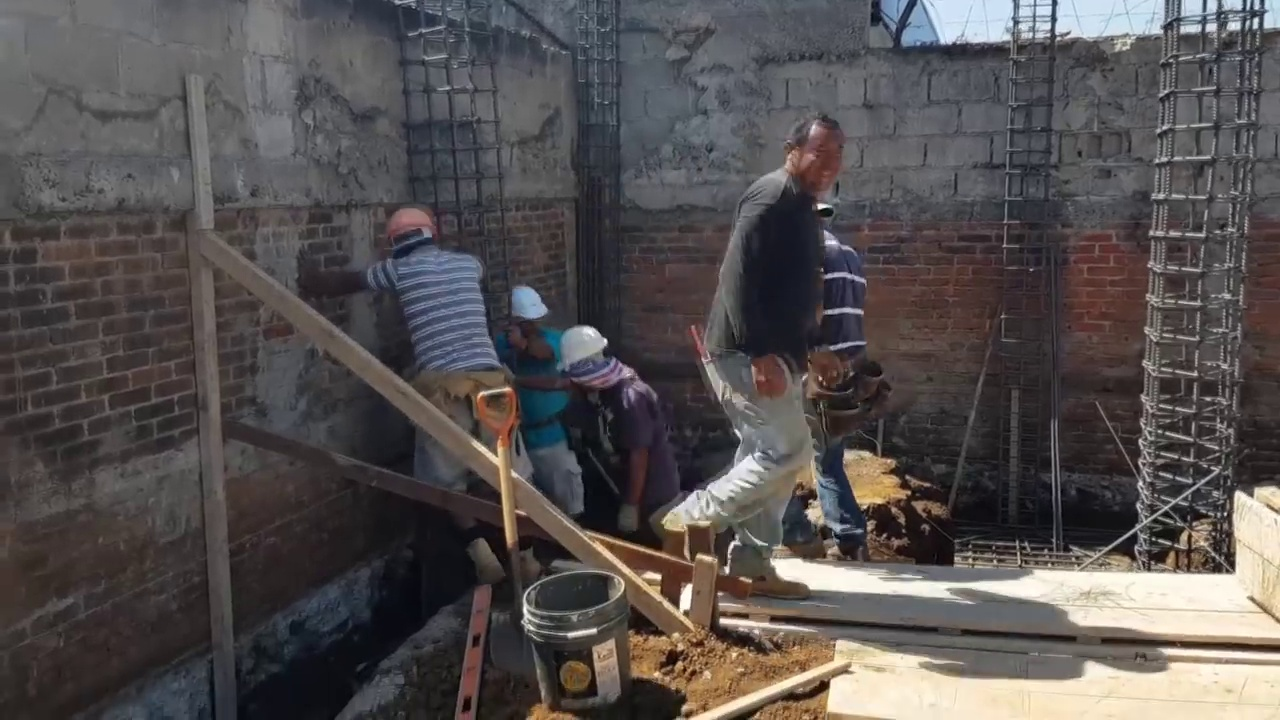helmet: (560, 327, 609, 375), (380, 203, 433, 240), (504, 284, 550, 321)
helmet-off: (786, 113, 851, 195)
helmet-on: (560, 324, 623, 388), (379, 200, 435, 261), (505, 284, 549, 345)
person: (686, 98, 869, 631), (345, 206, 504, 445), (782, 195, 873, 542), (563, 330, 670, 532), (500, 295, 587, 513)
